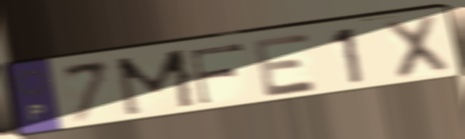1: (329, 25, 366, 88)
7: (62, 57, 112, 126)
E: (250, 30, 322, 100)
F: (188, 41, 247, 107)
M: (113, 46, 201, 120)
X: (381, 12, 453, 82)
